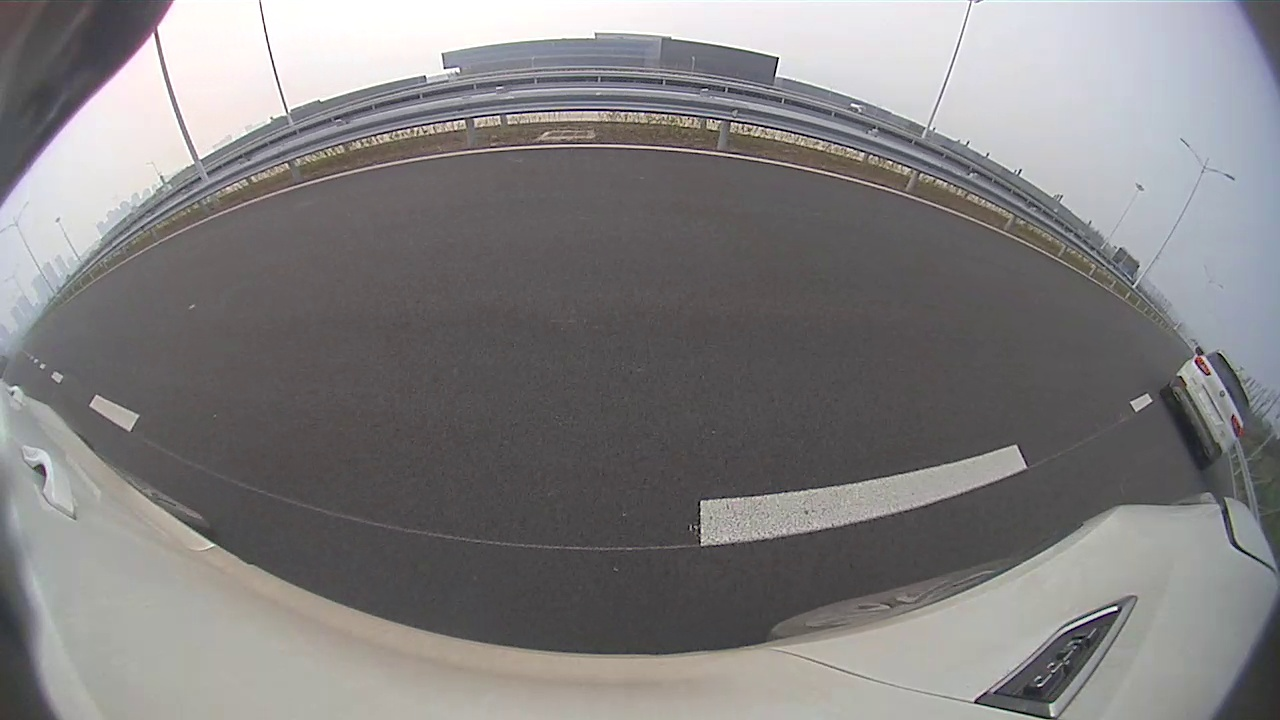car: (1160, 347, 1251, 469)
